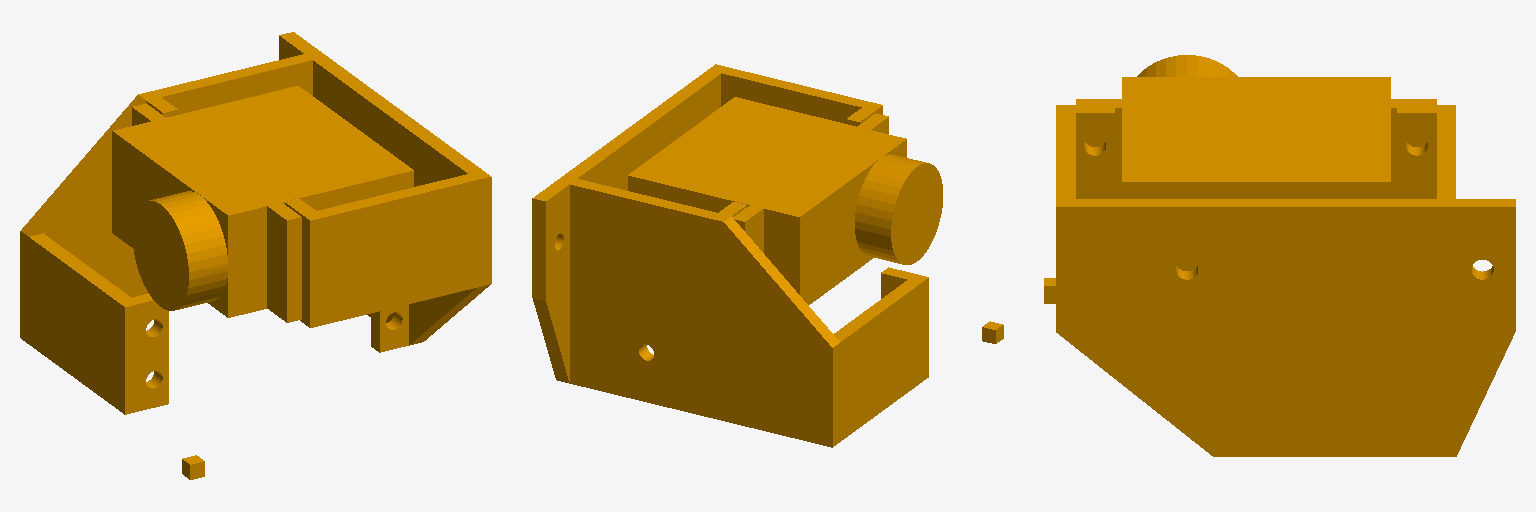
The robot description file, URDF, robot "mesh":
<?xml version="1.0"?>
<robot name="mesh">
  <link name="base_link">
    <visual name="visual">
      <origin xyz="0 0 0" rpy="0 0 0"/>
      <geometry>
	<mesh filename="package://b3w_walker/models/b3w_walker/stl/r_ankle.STL" scale="0.001 0.001 0.001"/>
      </geometry>
    </visual>
    <visual name="visual">
      <origin xyz="0 0 0" rpy="0 0 0"/>
      <geometry>
	<mesh filename="package://b3w_walker/models/b3w_walker/stl/r_ankle_type2-1.STL" scale="0.001 0.001 0.001"/>
      </geometry>
    </visual>
    <visual name="visual">
      <origin xyz="0 0 0" rpy="0 0 0"/>
      <geometry>
	<box size="0.003 0.003 0.003"/>
      </geometry>
    </visual>
  </link>
</robot>

--- Facts derived from the render (not from the file) ---
The picture shows the robot from 3 angles, left to right: view 1: azimuth 30°, elevation 25°; view 2: azimuth 150°, elevation 25°; view 3: azimuth 270°, elevation 25°; orthographic projection.
Model mesh with 1 links and 0 joints (none), rooted at base_link, posed all joints at 0.
Visible links, largest first — view 1: base_link; view 2: base_link; view 3: base_link.
Link boxes in pixels (left/top/right/bottom): base_link: left=20, top=32, right=491, bottom=479; base_link: left=532, top=64, right=1003, bottom=447; base_link: left=1044, top=55, right=1515, bottom=456.
Bounding box of the posed robot: 0.0625 × 0.0717 × 0.044 m (x, y, z).
2 mesh visuals loaded from 2 distinct referenced files (2 binary STL).
